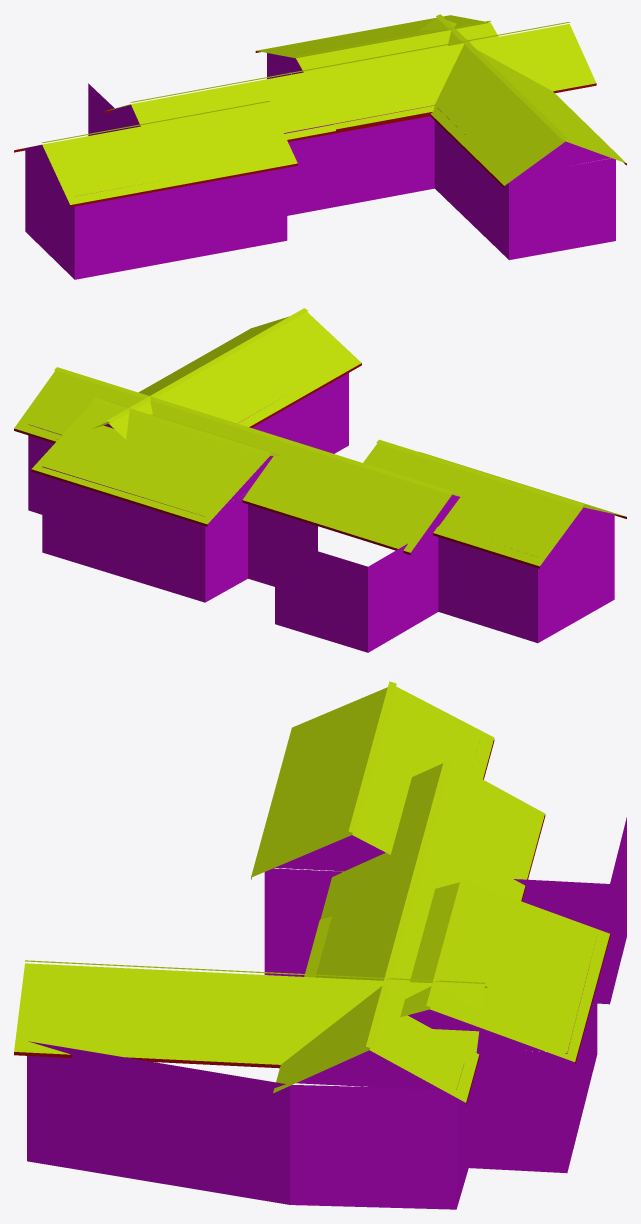
Rendered from niv_93.glb.
3 views of the same model, one above another, from view 1: azimuth 30°, elevation 25°; view 2: azimuth 150°, elevation 25°; view 3: azimuth 270°, elevation 25° (orthographic). The views are drawn at different scales.
Parts seen in each view (by area): view 1: niv_93; view 2: niv_93; view 3: niv_93.
Boxes of the visible parts, box(x1,y1,x2,y2) form: niv_93: box(14, 14, 626, 279); niv_93: box(14, 308, 626, 652); niv_93: box(14, 681, 626, 1209).
Size of the model in its own units: 28.73 by 5.92 by 19.85.
